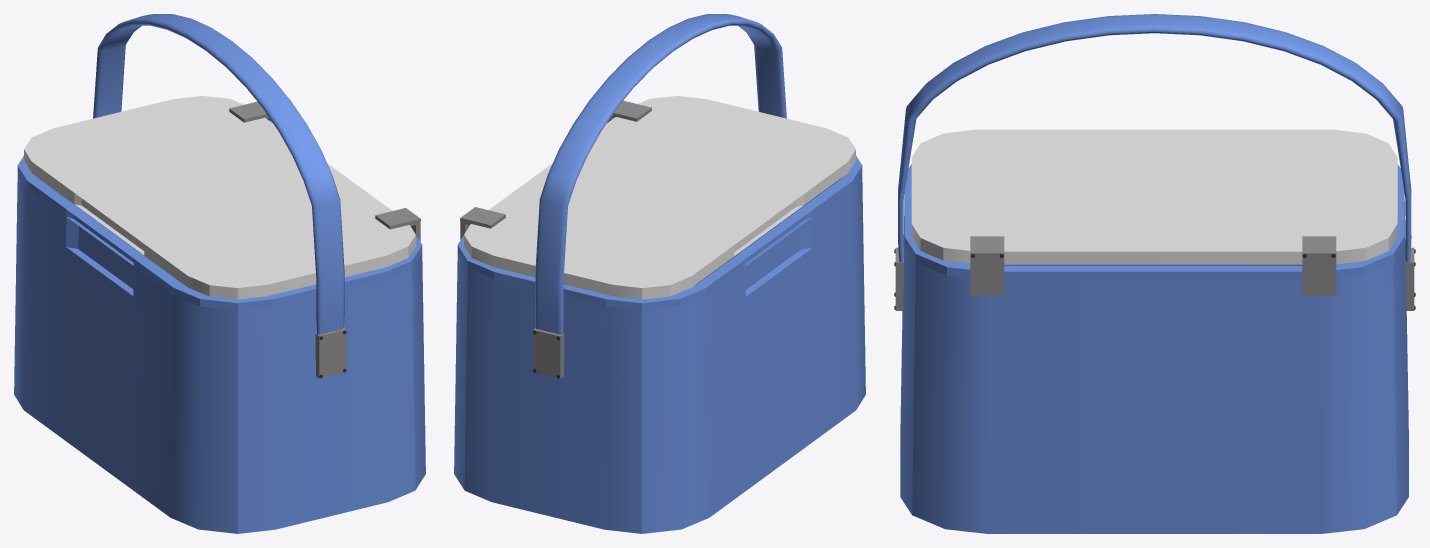
The model's file is foodCoolingBox.fbx.
3 renders of one model, left to right at view 1: azimuth 30°, elevation 25°; view 2: azimuth 150°, elevation 25°; view 3: azimuth 270°, elevation 25°, orthographic. The views are drawn at different scales.
Parts seen in each view (by area): view 1: foodCoolingBox; view 2: foodCoolingBox; view 3: foodCoolingBox.
Part boxes in pixels (x1,y1,x2,y2): foodCoolingBox: (14,14,425,533); foodCoolingBox: (454,14,865,533); foodCoolingBox: (894,14,1415,533).
Bounding box in the file's own units: 2.35 × 3.58 × 3.8.
